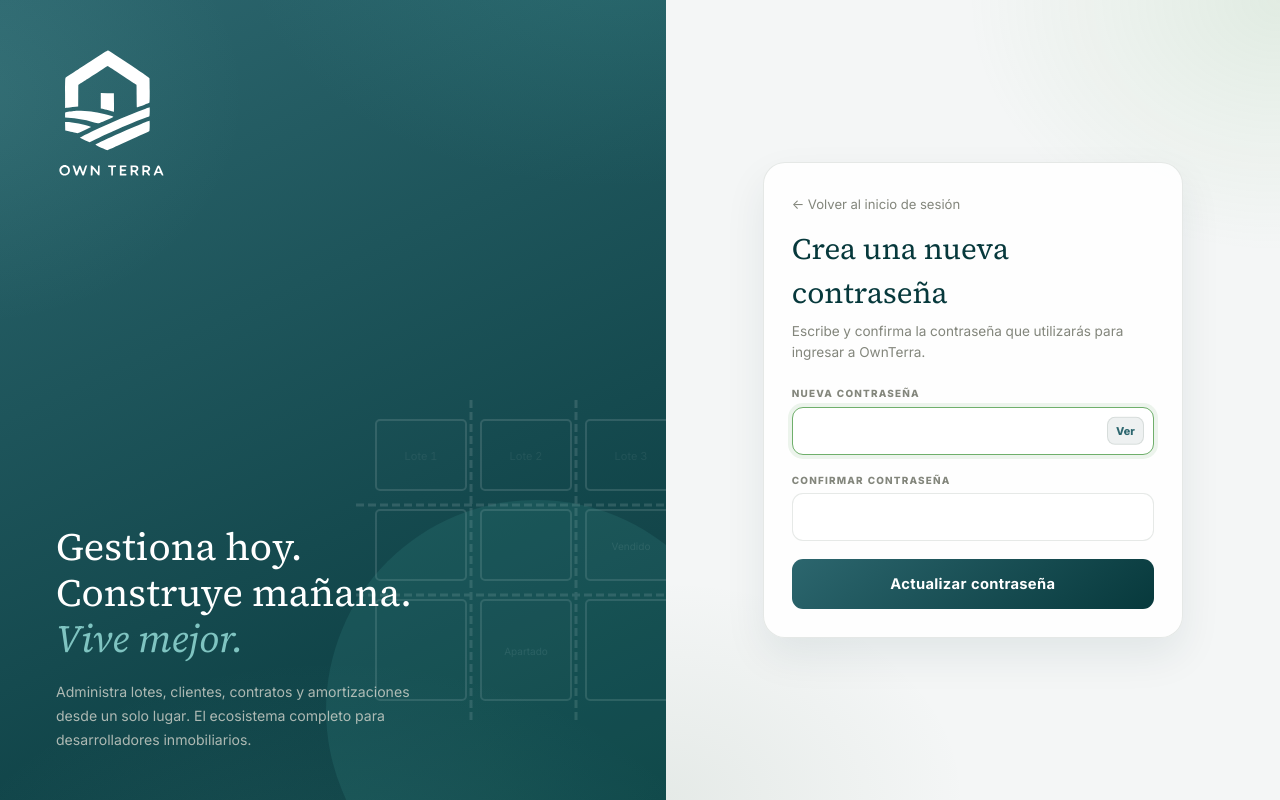
Scenario: ResetPassword › actualiza la contraseña usando el token del correo
Type "Password123" into the password field labelled "Nueva contraseña" at (973, 431), box [792,407,1154,455]
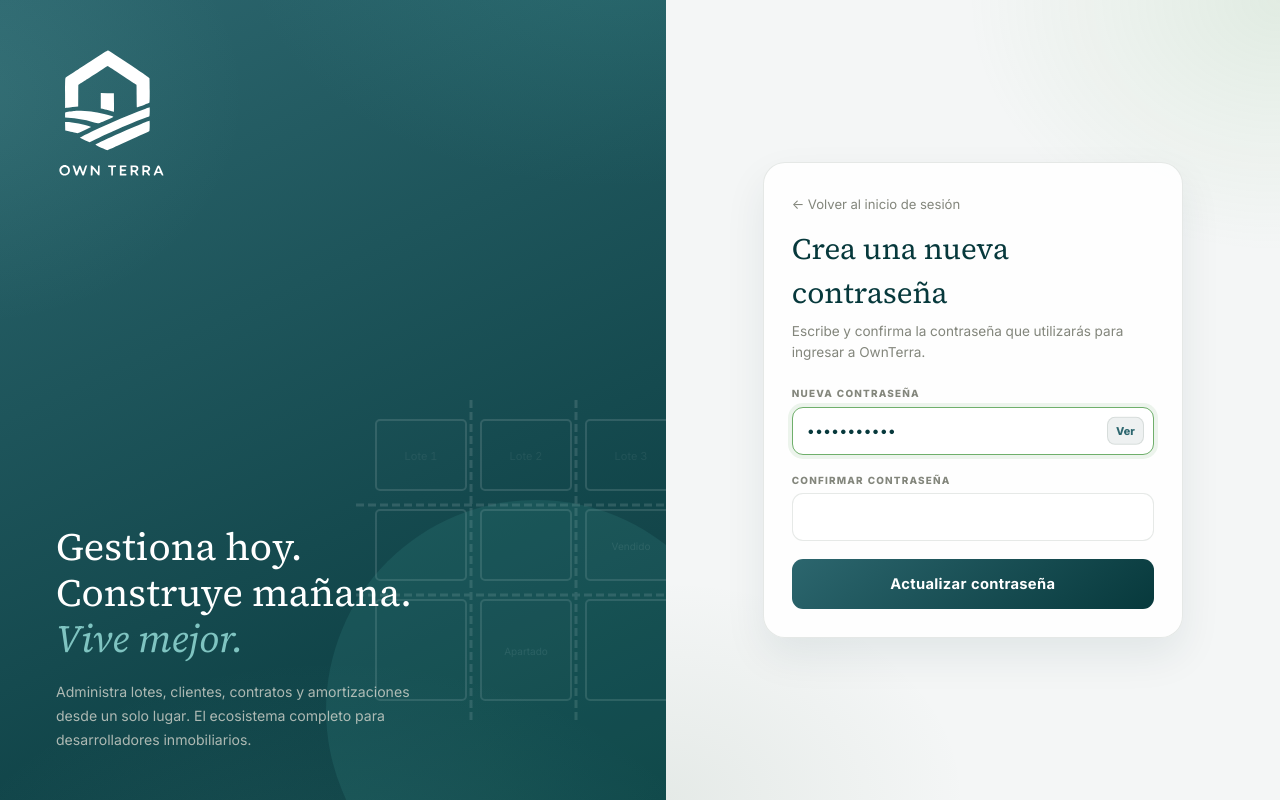
Type "Password123" into the password field labelled "Confirmar contraseña" at (973, 517), box [792,494,1154,541]
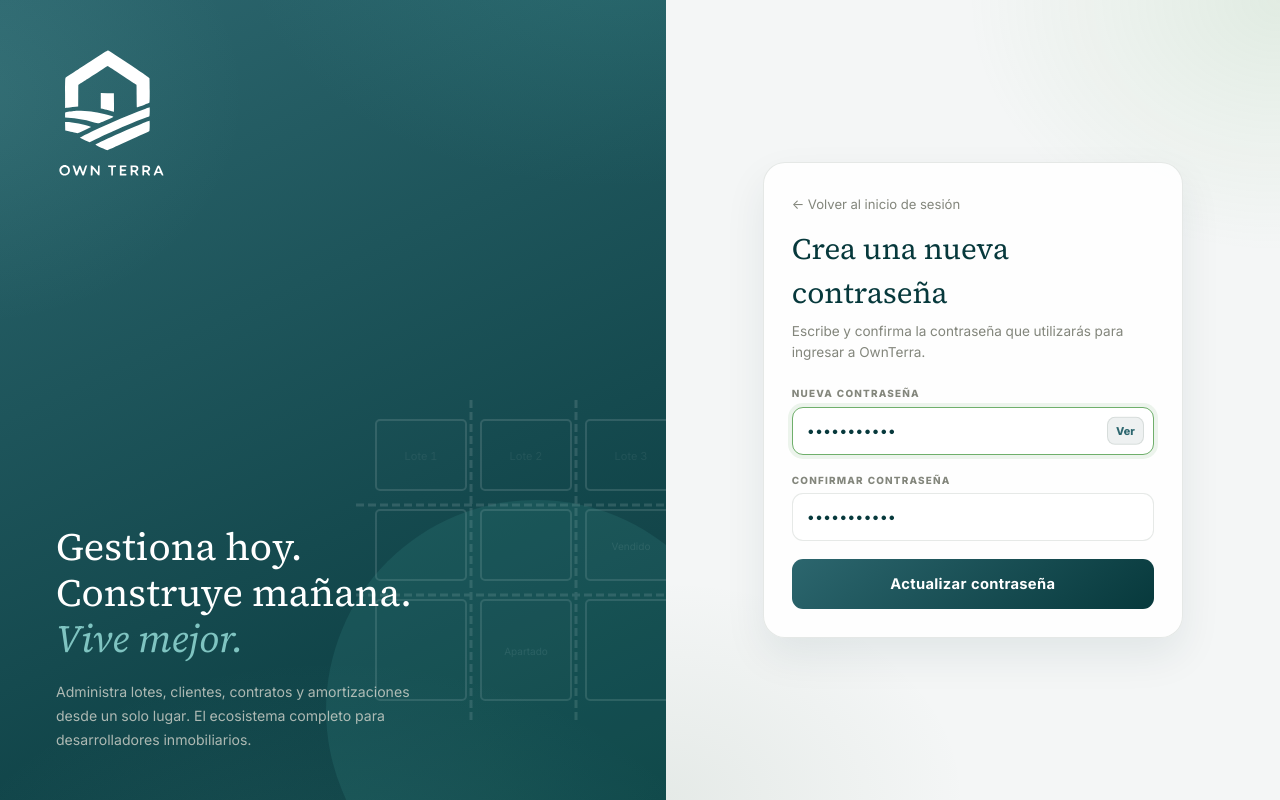
Click the button "Actualizar contraseña" at (973, 584), box [792,559,1154,609]
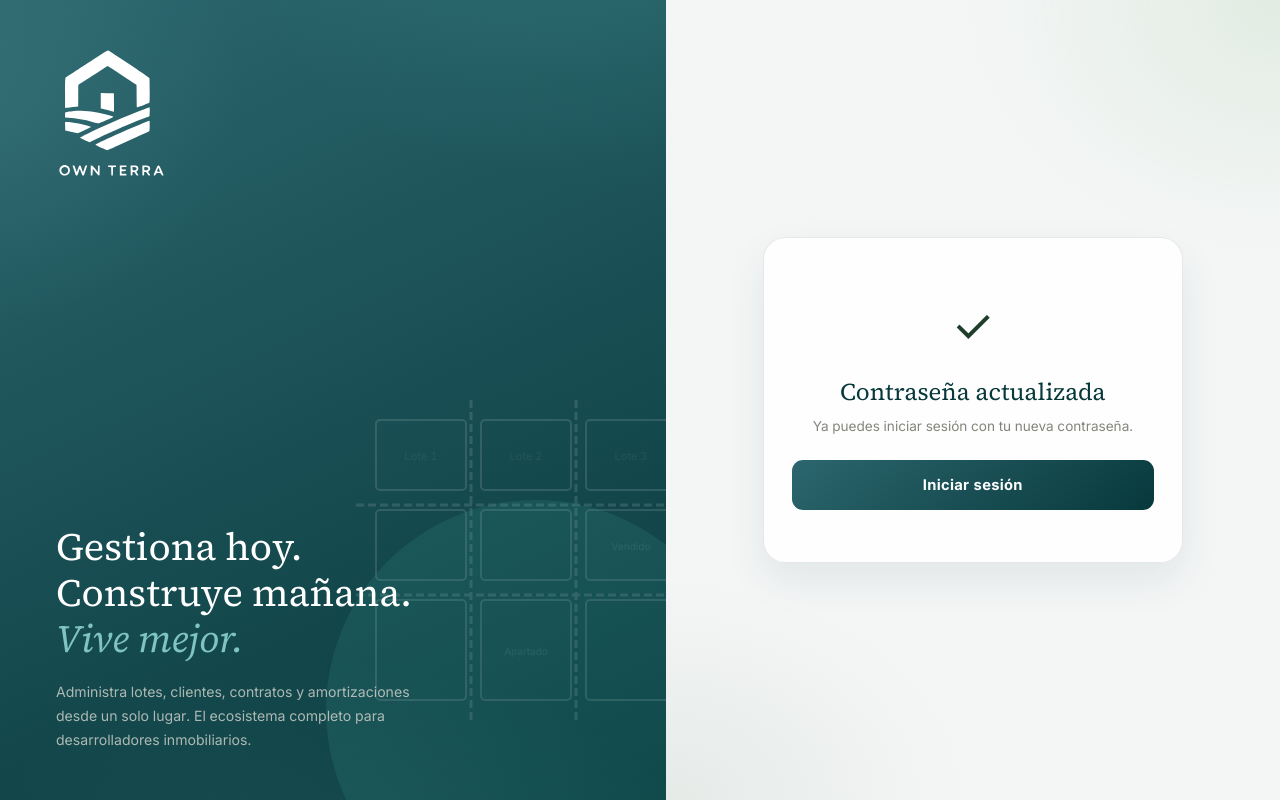
Check: the text "Contraseña actualizada" is shown, box [840,375,1106,408]
